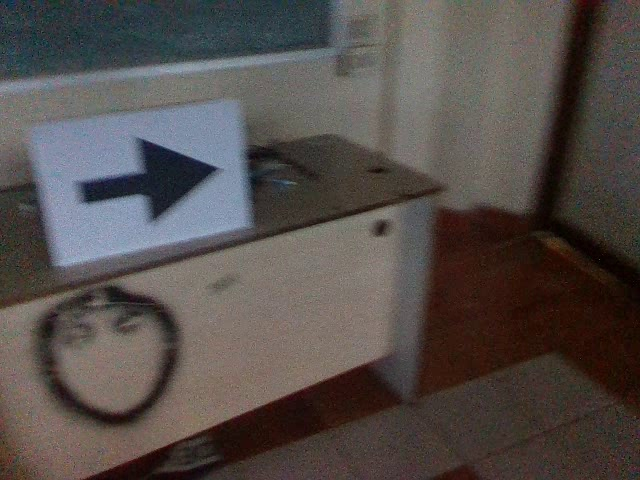Right: (64, 130, 226, 228)
